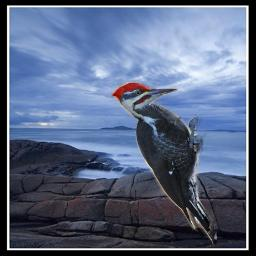Woodpecker: (110, 81, 217, 245)
